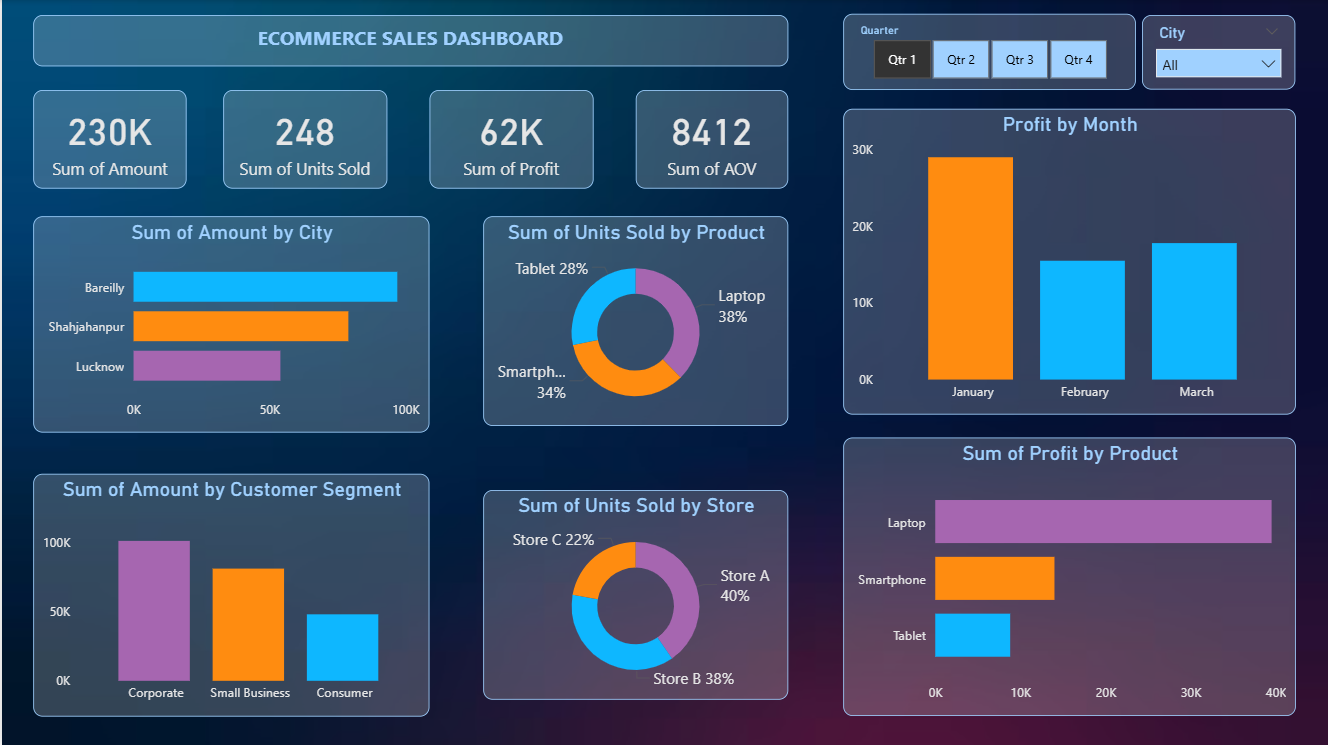

What the dashboard file says about the page in this screenshot:
{"tool":"powerbi","page":{"name":"Page 1","canvas":[1280,720],"ordinal":0},"visuals":[{"type":"columnChart","title":" Profit by Month","fields":{"Category":["Order.Date.Variation.Date Hierarchy.Month"],"Y":["Sum(Details.Profit ($))"]},"box":[811.9,105,436.7,295.6],"z":0},{"type":"barChart","fields":{"Y":["Sum(Details.Profit ($))"],"Category":["Details.Product"]},"box":[811.9,422.3,436.7,269],"z":1000},{"type":"donutChart","fields":{"Y":["Sum(Details.Units Sold)"],"Category":["Details.Product"]},"box":[464.5,208.7,294.4,202.7],"z":2000},{"type":"donutChart","fields":{"Y":["Sum(Details.Units Sold)"],"Category":["Details.Store"]},"box":[464.5,472.9,294.4,202.7],"z":3000},{"type":"card","fields":{"Values":["Sum(Details.Amount ($))"]},"box":[30.2,86.9,148.4,95.3],"z":4000},{"type":"card","fields":{"Values":["Sum(Details.Units Sold)"]},"box":[213.5,86.9,158,95.3],"z":5000},{"type":"card","fields":{"Values":["Sum(Details.Profit ($))"]},"box":[412.6,86.9,158,95.3],"z":6000},{"type":"card","fields":{"Values":["Sum(Details.AOV)"]},"box":[611.7,86.9,147.2,95.3],"z":7000},{"type":"barChart","fields":{"Y":["Sum(Details.Amount ($))"],"Category":["Order.City"]},"box":[30.2,208.7,382.4,208.7],"z":8000},{"type":"columnChart","fields":{"Y":["Sum(Details.Amount ($))"],"Category":["Details.Customer Segment"]},"box":[30.2,457.2,382.4,234],"z":9000},{"type":"slicer","fields":{"Values":["Order.Date.Variation.Date Hierarchy.Quarter"]},"box":[811.9,13.3,282.3,73.6],"z":10000},{"type":"slicer","fields":{"Values":["Order.City"]},"box":[1100.3,14.5,148.4,72.4],"z":11000},{"type":"textbox","box":[30.2,14.5,728.7,49.5],"z":12000}]}

Visuals, with their boxes in screenshot pixels (x1, y1, x2, y2), scaled from the page's 1280x720 canvas onto the 1328x745 screenshot:
" Profit by Month" columnChart: crop(842, 109, 1295, 415)
barChart - Sum(Details.Profit ($)) x Details.Product: crop(842, 437, 1295, 715)
donutChart - Sum(Details.Units Sold) x Details.Product: crop(482, 216, 787, 426)
donutChart - Sum(Details.Units Sold) x Details.Store: crop(482, 489, 787, 699)
card - Sum(Details.Amount ($)): crop(31, 90, 185, 189)
card - Sum(Details.Units Sold): crop(222, 90, 385, 189)
card - Sum(Details.Profit ($)): crop(428, 90, 592, 189)
card - Sum(Details.AOV): crop(635, 90, 787, 189)
barChart - Sum(Details.Amount ($)) x Order.City: crop(31, 216, 428, 432)
columnChart - Sum(Details.Amount ($)) x Details.Customer Segment: crop(31, 473, 428, 715)
slicer - Order.Date.Variation.Date Hierarchy.Quarter: crop(842, 14, 1135, 90)
slicer - Order.City: crop(1142, 15, 1296, 90)
textbox: crop(31, 15, 787, 66)
